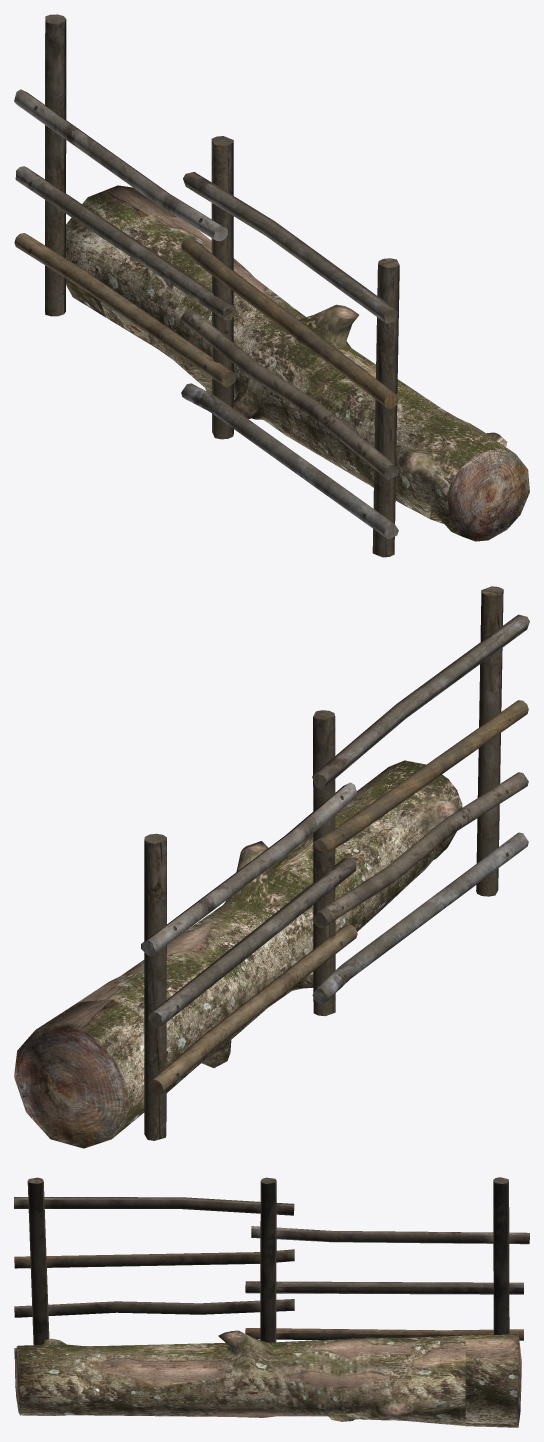
Rendered from log_1.fbx.
3 views of the same model, one above another, from view 1: azimuth 30°, elevation 25°; view 2: azimuth 150°, elevation 25°; view 3: azimuth 270°, elevation 25° (orthographic). The views are drawn at different scales.
Visible parts, largest first — view 1: Log, polySurface2, polySurface6, polySurface8, polySurface9, polySurface5, polySurface7, polySurface4, polySurface10, polySurface3, polySurface1; view 2: Log, polySurface2, polySurface6, polySurface7, polySurface5, polySurface4, polySurface10, polySurface3, polySurface8, polySurface9, polySurface1; view 3: Log, polySurface4, polySurface8, polySurface7, polySurface9, polySurface3, polySurface1, polySurface6, polySurface2, polySurface5.
Boxes of the visible parts, x1,y1,x2,y2 form: Log: [66, 185, 529, 541]; polySurface2: [45, 14, 66, 316]; polySurface6: [372, 258, 399, 557]; polySurface8: [181, 237, 398, 408]; polySurface9: [181, 308, 398, 479]; polySurface5: [14, 233, 236, 387]; polySurface7: [183, 172, 397, 323]; polySurface4: [15, 166, 236, 320]; polySurface10: [181, 383, 398, 539]; polySurface3: [14, 89, 227, 241]; polySurface1: [211, 136, 233, 439]; Log: [14, 760, 462, 1148]; polySurface2: [144, 833, 166, 1140]; polySurface6: [476, 586, 503, 896]; polySurface7: [312, 614, 529, 788]; polySurface5: [148, 924, 357, 1095]; polySurface4: [148, 857, 356, 1027]; polySurface10: [312, 832, 528, 1004]; polySurface3: [141, 782, 357, 955]; polySurface8: [312, 700, 528, 855]; polySurface9: [312, 772, 528, 927]; polySurface1: [313, 710, 335, 1016]; Log: [15, 1330, 521, 1427]; polySurface4: [245, 1281, 523, 1294]; polySurface8: [14, 1249, 294, 1268]; polySurface7: [14, 1197, 294, 1215]; polySurface9: [14, 1299, 294, 1317]; polySurface3: [251, 1226, 529, 1244]; polySurface1: [260, 1177, 276, 1342]; polySurface6: [27, 1177, 49, 1345]; polySurface2: [493, 1177, 509, 1334]; polySurface5: [245, 1328, 523, 1340].
Size of the model in its own units: 26.17 by 45.85 by 97.09.
